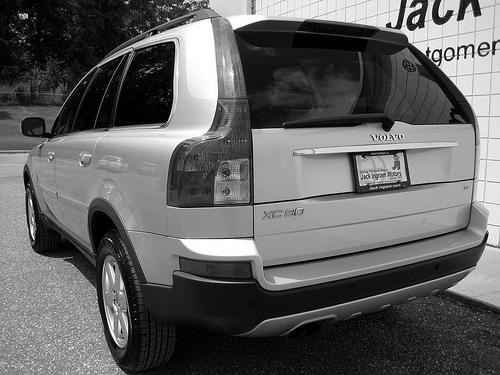car: (21, 9, 492, 375)
